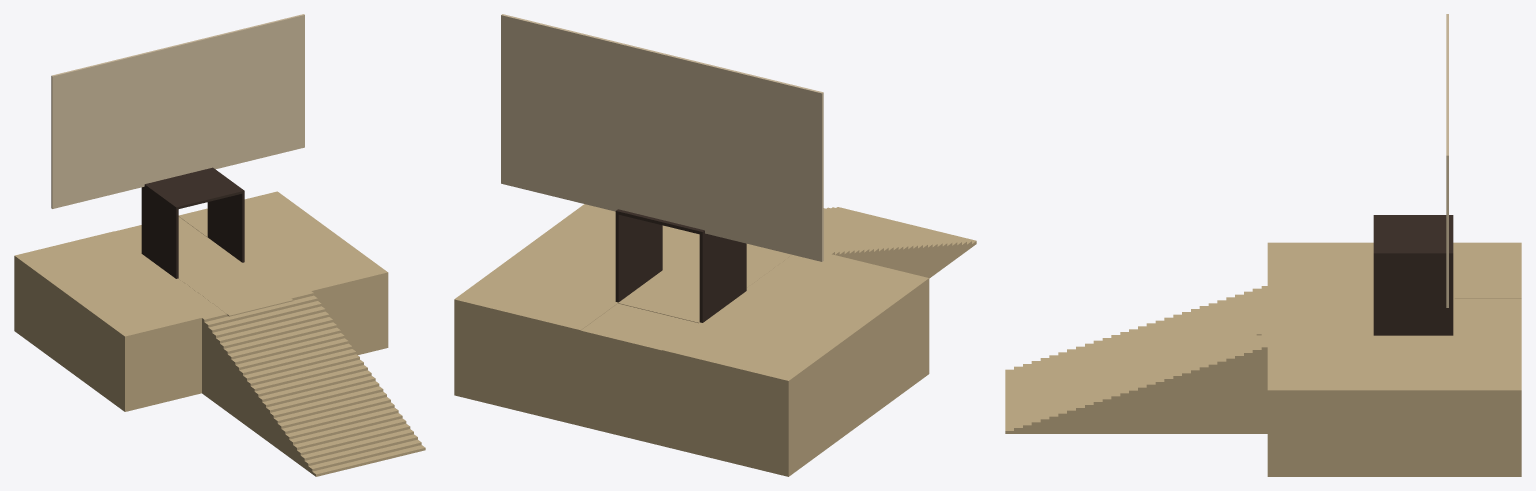
Rendered from entry.glb.
3 views of the same model, side by side, from view 1: azimuth 30°, elevation 25°; view 2: azimuth 150°, elevation 25°; view 3: azimuth 270°, elevation 25° (orthographic). The views are drawn at different scales.
Visible parts, largest first — view 1: raised-plinth, tower-interior-screen-v007, central-ceremonial-stairs, passage-floor-v007, passage-return-v007--1, passage-head-v007, passage-return-v007-1; view 2: raised-plinth, tower-interior-screen-v007, central-ceremonial-stairs, passage-floor-v007, passage-return-v007--1, passage-return-v007-1; view 3: raised-plinth, central-ceremonial-stairs, passage-return-v007-1, passage-floor-v007, passage-head-v007, tower-interior-screen-v007.
Boxes of the visible parts, x1,y1,x2,y2 form: raised-plinth: [14, 191, 388, 411]; tower-interior-screen-v007: [51, 14, 304, 208]; central-ceremonial-stairs: [202, 290, 425, 476]; passage-floor-v007: [178, 237, 293, 316]; passage-return-v007--1: [141, 186, 178, 278]; passage-head-v007: [144, 167, 244, 209]; passage-return-v007-1: [207, 168, 244, 262]; raised-plinth: [454, 204, 929, 476]; tower-interior-screen-v007: [501, 14, 823, 261]; central-ceremonial-stairs: [823, 207, 976, 278]; passage-floor-v007: [618, 243, 791, 323]; passage-return-v007--1: [699, 231, 746, 322]; passage-return-v007-1: [615, 209, 662, 302]; raised-plinth: [1267, 242, 1521, 476]; central-ceremonial-stairs: [1005, 286, 1270, 433]; passage-return-v007-1: [1373, 253, 1453, 335]; passage-floor-v007: [1256, 298, 1454, 335]; passage-head-v007: [1373, 215, 1453, 256]; tower-interior-screen-v007: [1446, 14, 1448, 307].
Bounding box in the file's own units: 25 × 25.18 × 37.
